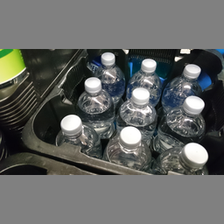water: (52, 113, 102, 157), (104, 126, 153, 169), (158, 95, 208, 135), (78, 76, 113, 132), (154, 138, 208, 173), (122, 57, 163, 102), (119, 88, 158, 135), (162, 60, 204, 102), (93, 51, 124, 102)
